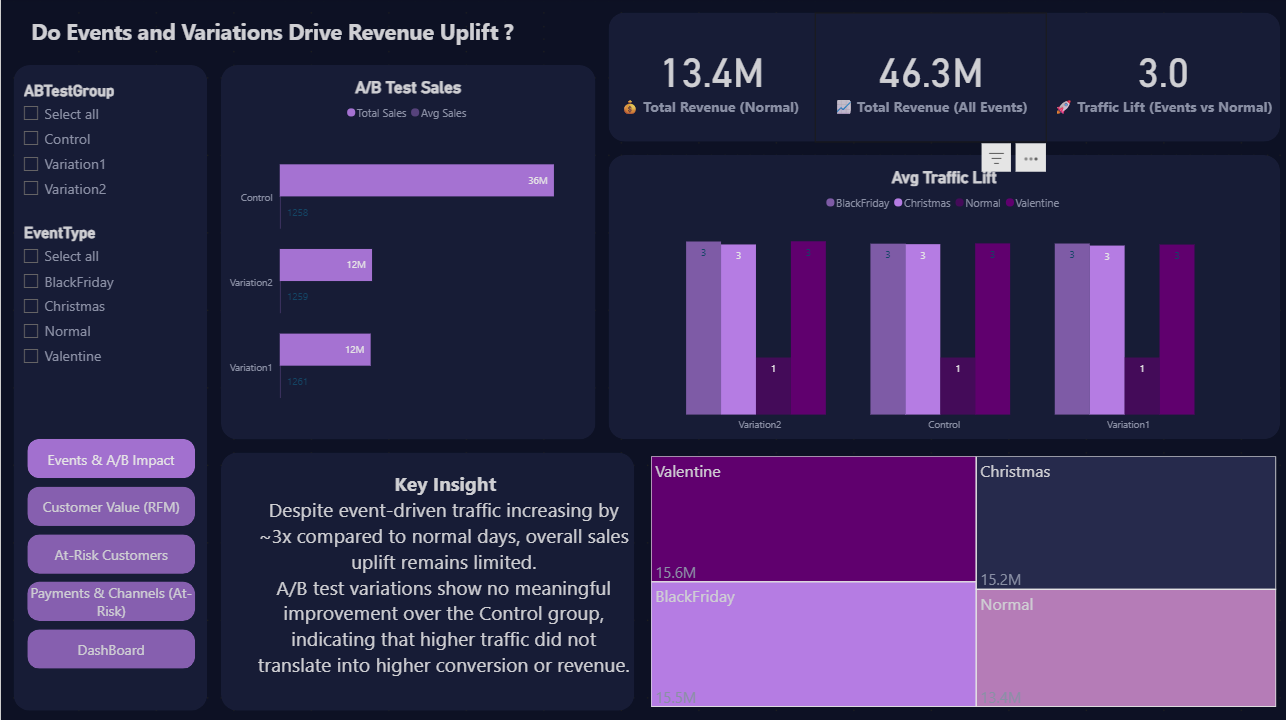

This screenshot's page, from the dashboard's own definition file:
{"tool":"powerbi","page":{"name":"Events & A/B Impact","canvas":[1600,900],"ordinal":0},"visuals":[{"type":"shape","box":[272,560,512,320],"z":0},{"type":"shape","box":[752,192,832,352],"z":1000},{"type":"shape","box":[752,16,832,160],"z":2000},{"type":"shape","box":[16,80,240,800],"z":3000},{"type":"shape","box":[272,80,464,464],"z":4000},{"type":"treemap","title":"Total Sales ","fields":{"Values":["Sum(transactions.SaleAmountEUR)"],"Group":["transactions.EventType","transactions.ABTestGroup"]},"box":[800,560,784,320],"z":5000},{"type":"clusteredBarChart","title":"A/B Test Sales","fields":{"Category":["transactions.ABTestGroup"],"Y":["Sum(transactions.SaleAmountEUR)","Avg(transactions.SaleAmountEUR)"]},"box":[272,96,464,448],"z":6000},{"type":"clusteredColumnChart","title":"Avg Traffic Lift","fields":{"Category":["transactions.ABTestGroup"],"Y":["Avg(transactions.TrafficMultiplier)"],"Series":["transactions.EventType"]},"box":[752,208,832,336],"z":7000},{"type":"card","fields":{"Values":["Measure Table (2).TrafficEventToNormal"]},"box":[1296,16,288,160],"z":8000},{"type":"slicer","fields":{"Values":["transactions.ABTestGroup"]},"box":[16,96,240,160],"z":10000},{"type":"slicer","fields":{"Values":["transactions.EventType"]},"box":[16,272,240,208],"z":11000},{"type":"card","fields":{"Values":["Measure Table.Total Sales (Normal)"]},"box":[752,16,256,160],"z":12000},{"type":"card","fields":{"Values":["Measure Table.Total Sales (Events)"]},"box":[1008,16,288,160],"z":13000},{"type":"textbox","box":[32,16,672,64],"z":14000},{"type":"textbox","box":[272,560,512,320],"z":15000},{"type":"pageNavigator","box":[32,544,208,288],"z":15005}]}

Visuals, with their boxes in screenshot pixels (x1, y1, x2, y2), scaled from the page's 1600x900 canvas onto the 1286x720 screenshot:
shape: 219, 448, 630, 704
shape: 604, 154, 1273, 435
shape: 604, 13, 1273, 141
shape: 13, 64, 206, 704
shape: 219, 64, 592, 435
"Total Sales " treemap: 643, 448, 1273, 704
"A/B Test Sales" clusteredBarChart: 219, 77, 592, 435
"Avg Traffic Lift" clusteredColumnChart: 604, 166, 1273, 435
card - Measure Table (2).TrafficEventToNormal: 1042, 13, 1273, 141
slicer - transactions.ABTestGroup: 13, 77, 206, 205
slicer - transactions.EventType: 13, 218, 206, 384
card - Measure Table.Total Sales (Normal): 604, 13, 810, 141
card - Measure Table.Total Sales (Events): 810, 13, 1042, 141
textbox: 26, 13, 566, 64
textbox: 219, 448, 630, 704
pageNavigator: 26, 435, 193, 666
